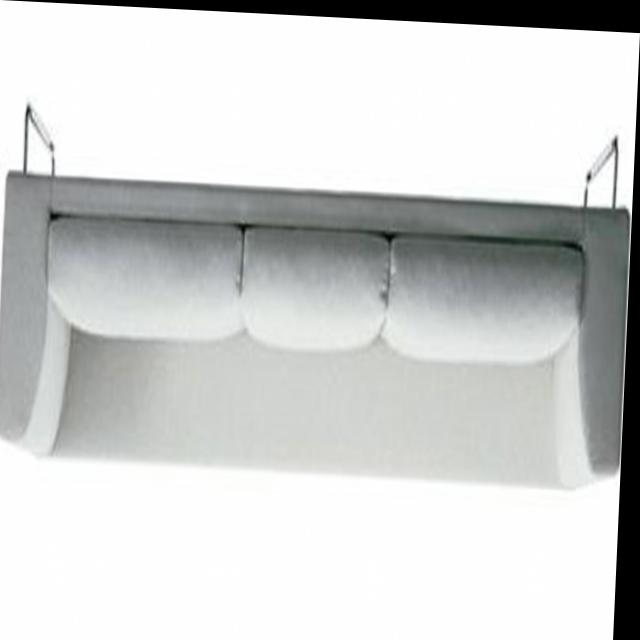Sofa: (0, 105, 636, 483)
